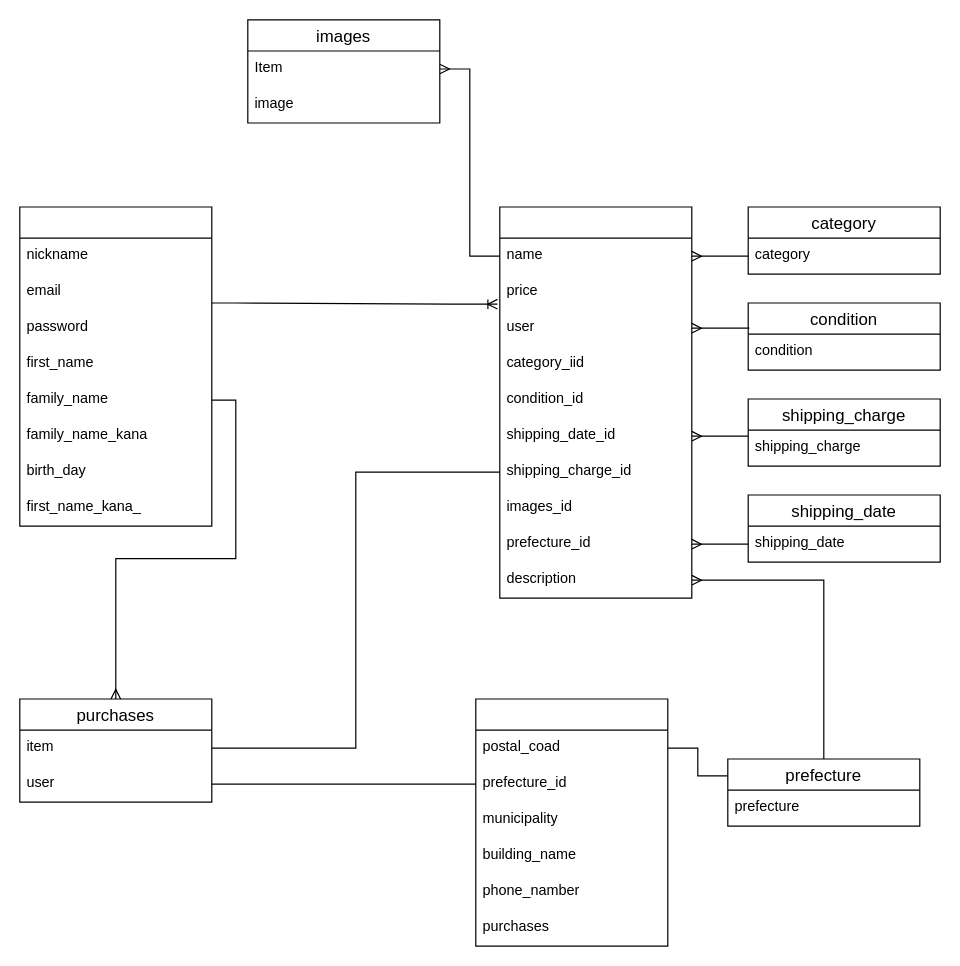
This 960x966 diagram has some shape labels left out. Here are the shapes that lost their labels. From the top down, the box of each, then its label:
(19, 206, 212, 526): users
(499, 206, 692, 598): items
(475, 698, 668, 946): shipping_addressees
